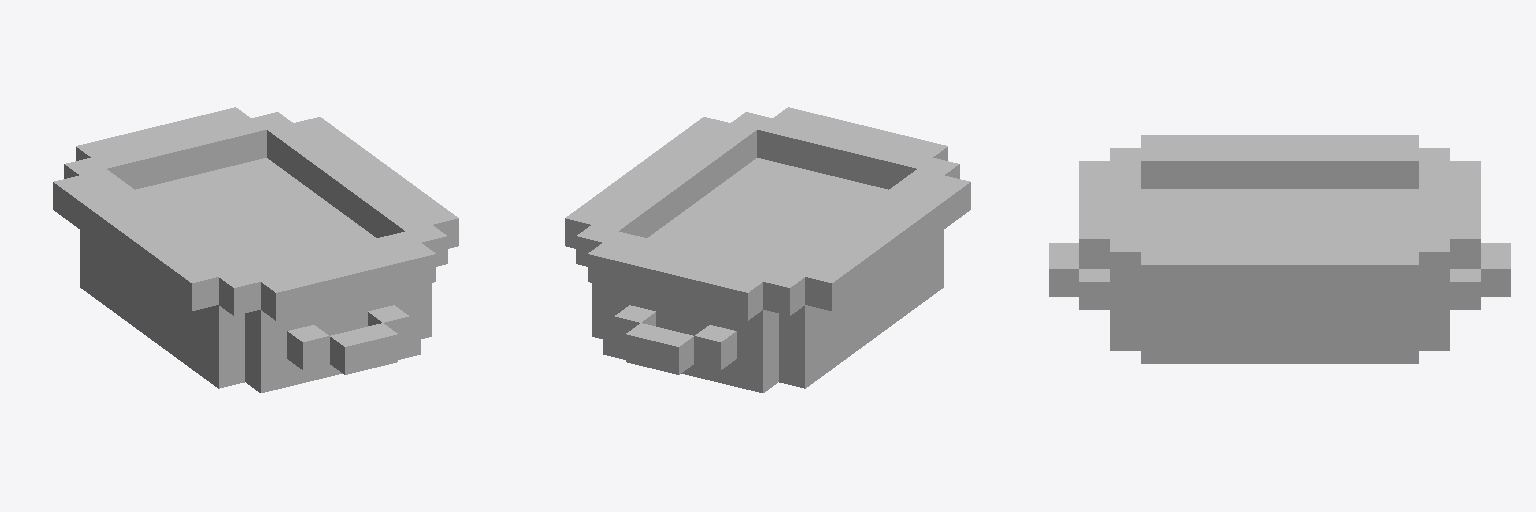
File: cooking_roasting_pan_fill.obj
The picture shows the model from 3 angles: view 1: azimuth 30°, elevation 25°; view 2: azimuth 150°, elevation 25°; view 3: azimuth 270°, elevation 25°; orthographic projection.
Parts seen in each view (by area): view 1: node_0_0_0.006, node_0_0_0.007; view 2: node_0_0_0.006, node_0_0_0.007; view 3: node_0_0_0.006, node_0_0_0.007.
Boxes of the visible parts, x1=… form: node_0_0_0.006: x1=53, y1=107, x2=458, y2=392; node_0_0_0.007: x1=136, y1=158, x2=375, y2=269; node_0_0_0.006: x1=565, y1=107, x2=970, y2=392; node_0_0_0.007: x1=648, y1=158, x2=887, y2=269; node_0_0_0.006: x1=1049, y1=135, x2=1510, y2=363; node_0_0_0.007: x1=1141, y1=189, x2=1418, y2=238.
Size of the model in its own units: 0.625 by 0.25 by 0.9375.